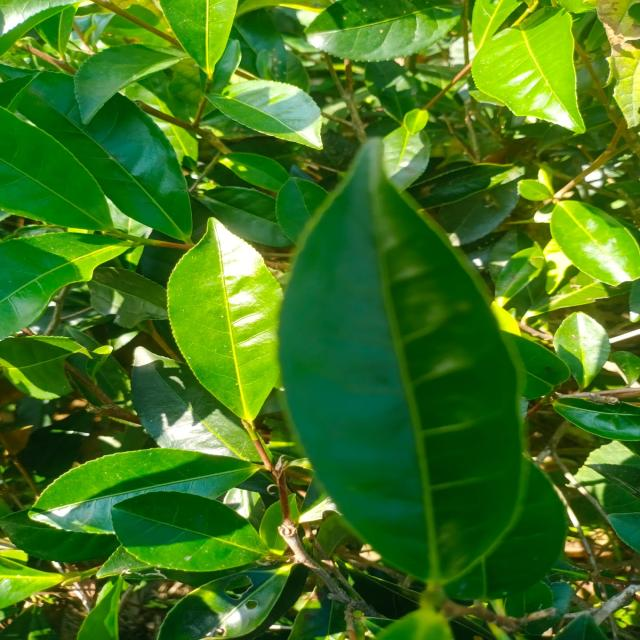Category D(7+ days, Not for Tea): (238, 135, 538, 600)
